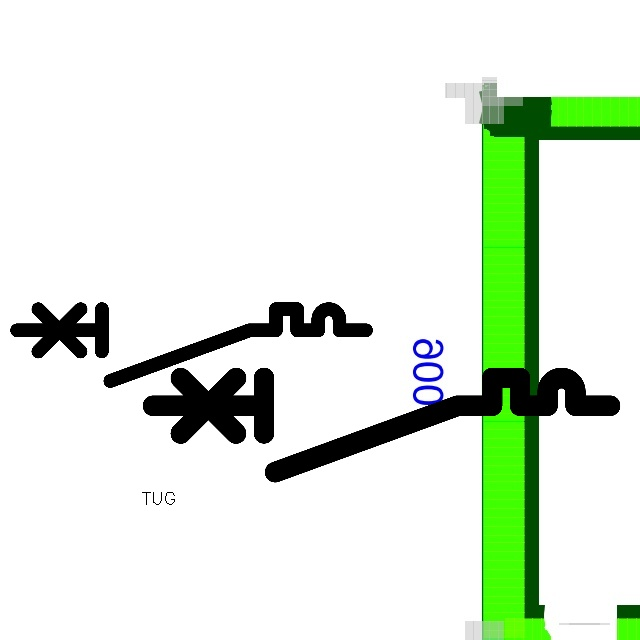interruptor_termomagnetico: (141, 366, 622, 483), (8, 300, 375, 390)
